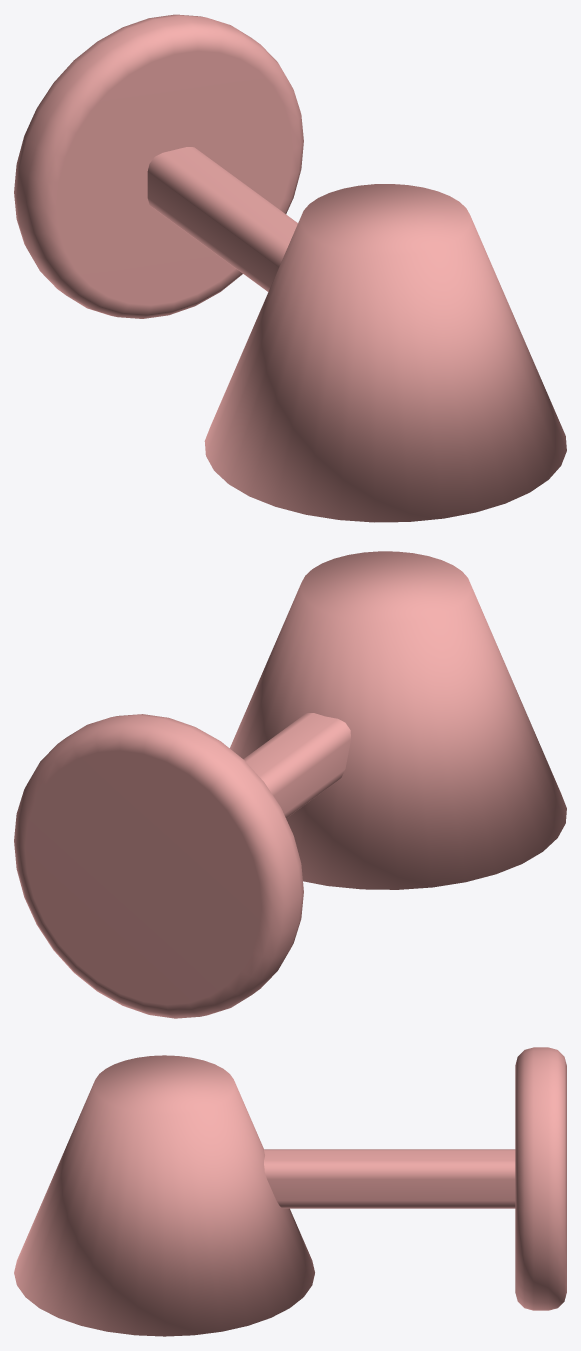
The model's file is wallSpotBellRose.glb.
3 renders of one model, top to bottom at view 1: azimuth 30°, elevation 25°; view 2: azimuth 150°, elevation 25°; view 3: azimuth 270°, elevation 25°, orthographic. The views are drawn at different scales.
Visible parts, largest first — view 1: Bell spotlight shade, Wall backplate, Spotlight support arm; view 2: Bell spotlight shade, Wall backplate, Spotlight support arm; view 3: Bell spotlight shade, Spotlight support arm, Wall backplate.
Boxes of the visible parts, <box> form: Bell spotlight shade: <box>204,184,566,522</box>; Wall backplate: <box>14,14,303,318</box>; Spotlight support arm: <box>147,147,297,291</box>; Bell spotlight shade: <box>229,551,566,889</box>; Wall backplate: <box>14,714,303,1018</box>; Spotlight support arm: <box>243,713,350,818</box>; Bell spotlight shade: <box>14,1055,314,1336</box>; Spotlight support arm: <box>264,1149,515,1208</box>; Wall backplate: <box>515,1047,566,1310</box>.
Bounding box in the file's own units: 0.32 × 0.28 × 0.5875.
